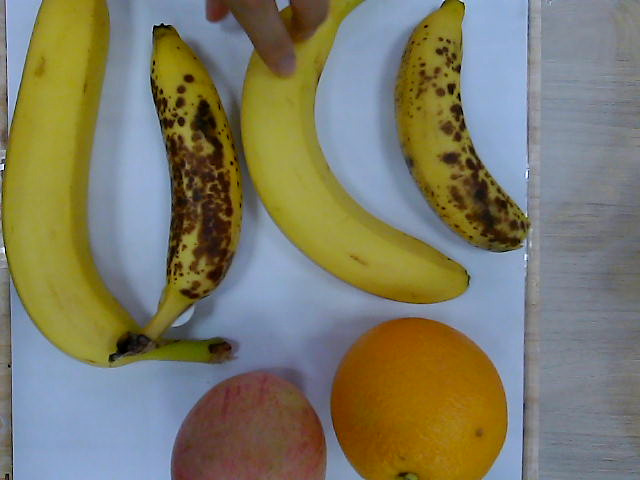fresh_apple: (171, 373, 325, 480)
fresh_banana: (240, 6, 471, 305), (3, 1, 147, 365)
fresh_orange: (333, 317, 510, 480)
rotten_banana: (392, 1, 533, 253), (138, 25, 241, 345)
